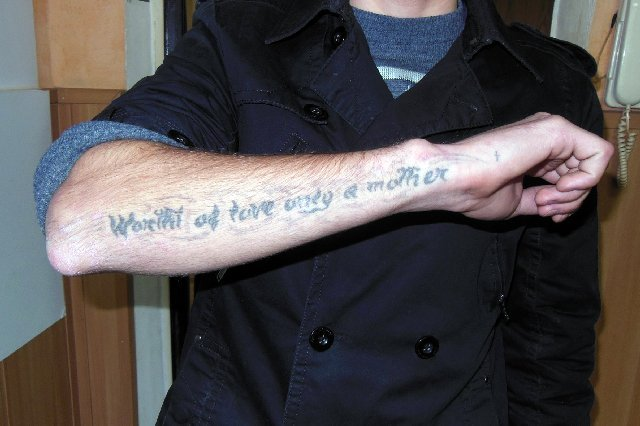tatu3_bukva: (102, 163, 454, 240)
tatu9_krest: (490, 148, 505, 164)
